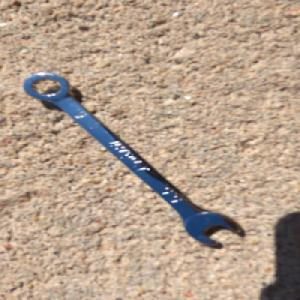Wrench: (21, 71, 243, 249)
